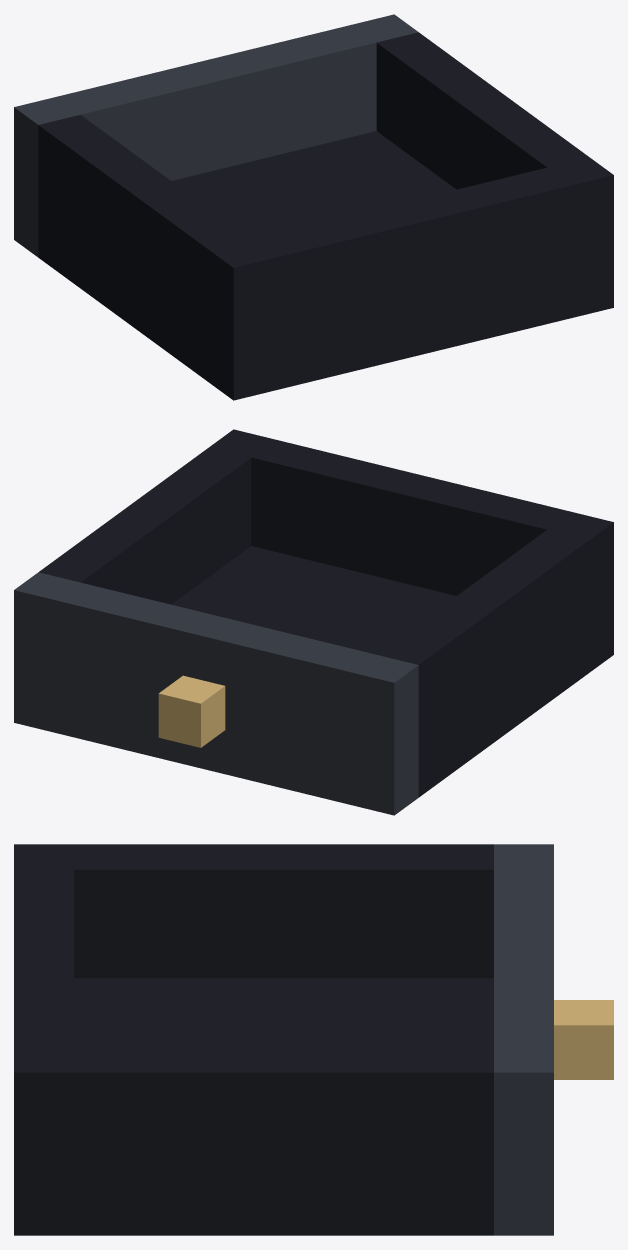
The model's file is desk_drawer_top.glb.
3 renders of one model, top to bottom at view 1: azimuth 30°, elevation 25°; view 2: azimuth 150°, elevation 25°; view 3: azimuth 270°, elevation 25°, orthographic. The views are drawn at different scales.
Parts seen in each view (by area): view 1: model; view 2: model; view 3: model.
Boxes of the visible parts, bbox=[...] form: model: bbox=[14, 14, 613, 400]; model: bbox=[14, 429, 613, 815]; model: bbox=[14, 844, 613, 1235].
Bounding box in the file's own units: 0.9 × 0.3 × 1.
